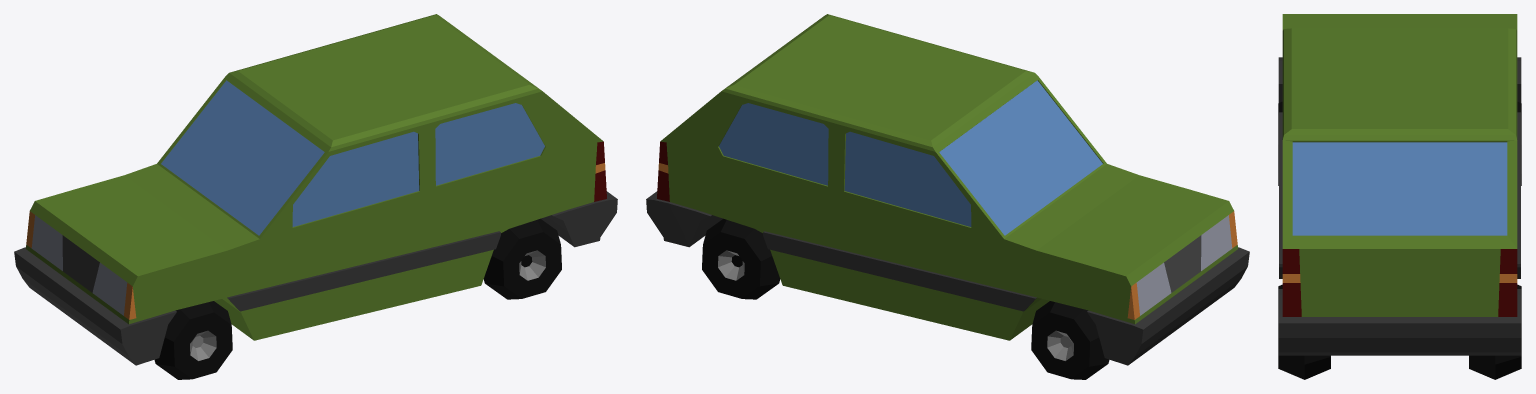
File: samochod.fbx
The picture shows the model from 3 angles, left to right: view 1: azimuth 30°, elevation 25°; view 2: azimuth 150°, elevation 25°; view 3: azimuth 270°, elevation 25°; orthographic projection. The views are drawn at different scales.
Parts seen in each view (by area): view 1: Cube; view 2: Cube; view 3: Cube.
Boxes of the visible parts, box(x1,y1,x2,y2) form: Cube: box(14, 14, 617, 379); Cube: box(646, 14, 1249, 379); Cube: box(1278, 14, 1521, 379).
Size of the model in its own units: 142 by 158 by 382.
